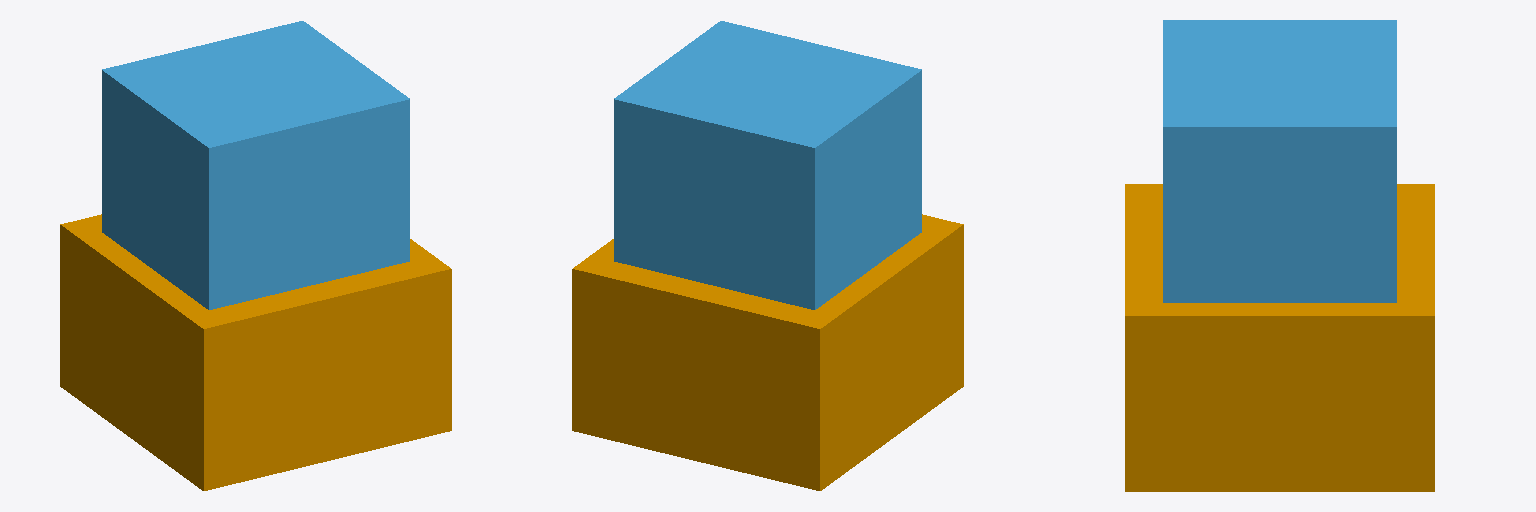
URDF robot description (hnu2027_sentry_proxy):
<?xml version="1.0"?>
<!--
  Stable integration contract for a future SolidWorks import:
  base_link, lidar_link, imu_link, upper_link, and fold_joint must be retained.
  Replace only visual/collision geometry and inertial values after measured data exist.
-->
<robot name="hnu2027_sentry_proxy">
  <link name="base_link">
    <visual><origin xyz="0 0 0.10"/><geometry><box size="0.32 0.32 0.20"/></geometry></visual>
    <collision><origin xyz="0 0 0.10"/><geometry><box size="0.32 0.32 0.20"/></geometry></collision>
  </link>
  <link name="upper_link">
    <visual><origin xyz="0 0 0.10"/><geometry><box size="0.26 0.24 0.20"/></geometry></visual>
    <collision><origin xyz="0 0 0.10"/><geometry><box size="0.26 0.24 0.20"/></geometry></collision>
  </link>
  <joint name="fold_joint" type="prismatic">
    <parent link="base_link"/><child link="upper_link"/>
    <origin xyz="0 0 0.20" rpy="0 0 0"/>
    <axis xyz="0 0 1"/>
    <limit lower="-0.16" upper="0.0" effort="200" velocity="0.10"/>
  </joint>
  <link name="lidar_link"/>
  <joint name="lidar_joint" type="fixed"><parent link="upper_link"/><child link="lidar_link"/><origin xyz="0 0 0.20" rpy="0 0 0"/></joint>
  <link name="imu_link"/>
  <joint name="imu_joint" type="fixed"><parent link="base_link"/><child link="imu_link"/><origin xyz="0 0 0.12" rpy="0 0 0"/></joint>
</robot>

--- Render facts (derived) ---
3 views of the same robot in one strip: view 1: azimuth 30°, elevation 25°; view 2: azimuth 150°, elevation 25°; view 3: azimuth 270°, elevation 25° (orthographic).
Model hnu2027_sentry_proxy with 4 links and 3 joints (1 prismatic, 2 fixed), rooted at base_link, posed every joint at zero.
Visible links, largest first — view 1: base_link, upper_link; view 2: base_link, upper_link; view 3: base_link, upper_link.
Boxes of the visible links, x1,y1,x2,y2 form: base_link: (60, 214, 451, 490); upper_link: (102, 21, 409, 309); base_link: (572, 214, 963, 490); upper_link: (614, 21, 921, 309); base_link: (1125, 184, 1434, 491); upper_link: (1163, 20, 1396, 302).
Size in the robot's own frame: 0.32 by 0.32 by 0.4 metres.
Geometry: primitives only (box / cylinder / sphere), no mesh files.
